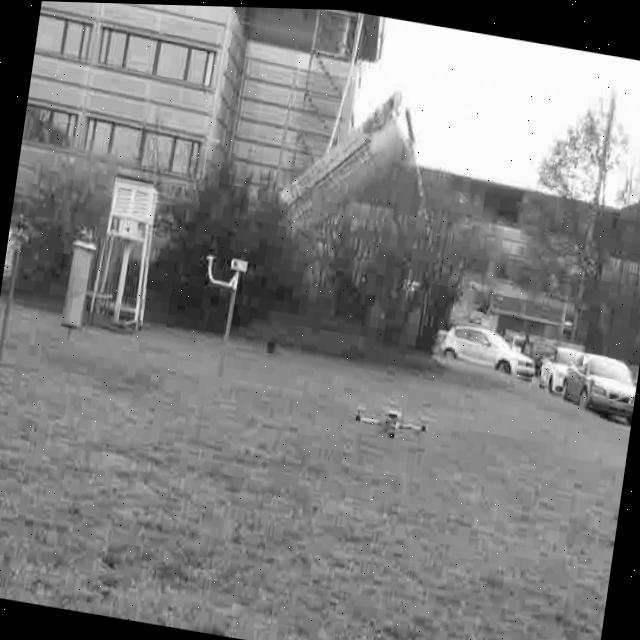drone: (351, 395, 432, 446)
